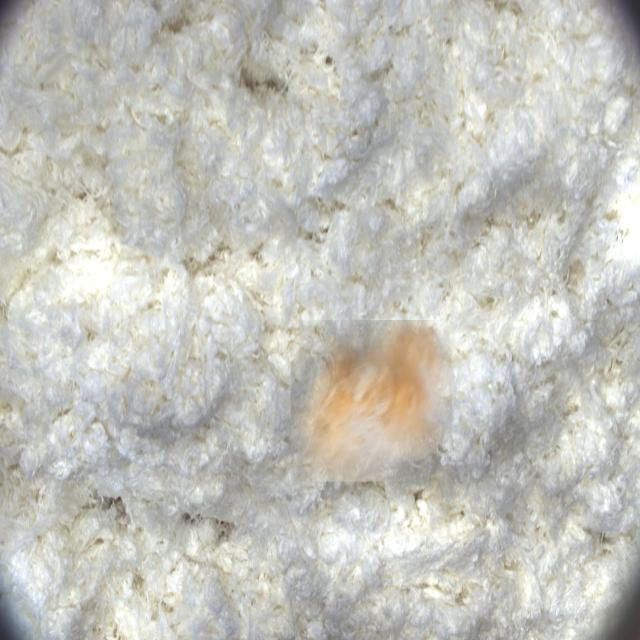dust: (291, 320, 452, 482)
